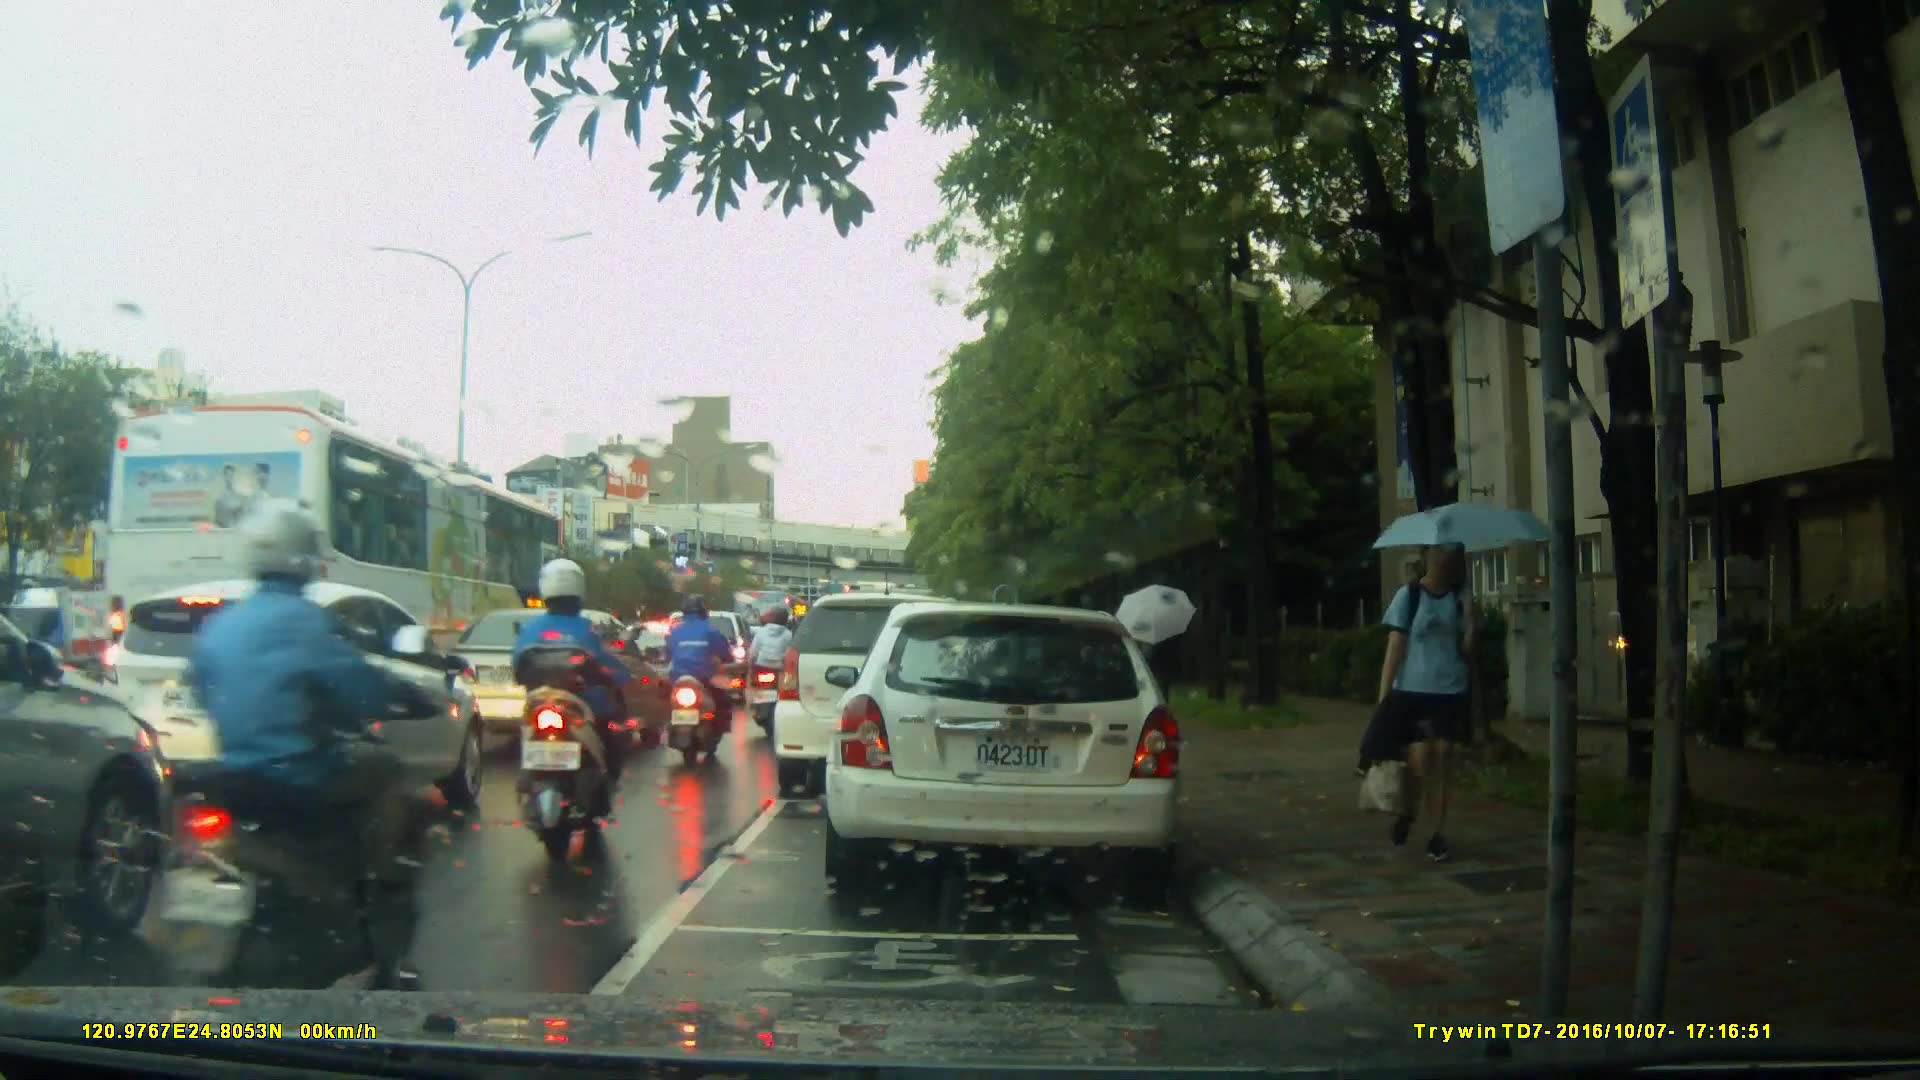pedestrian: (1353, 529, 1507, 870)
rider: (154, 493, 439, 1059), (509, 560, 643, 855), (658, 597, 735, 769), (754, 599, 810, 742)
vehicle: (101, 398, 572, 731), (835, 594, 1194, 898), (98, 576, 486, 846), (776, 590, 1026, 784), (423, 605, 666, 750), (1, 586, 155, 697), (610, 619, 720, 715)
